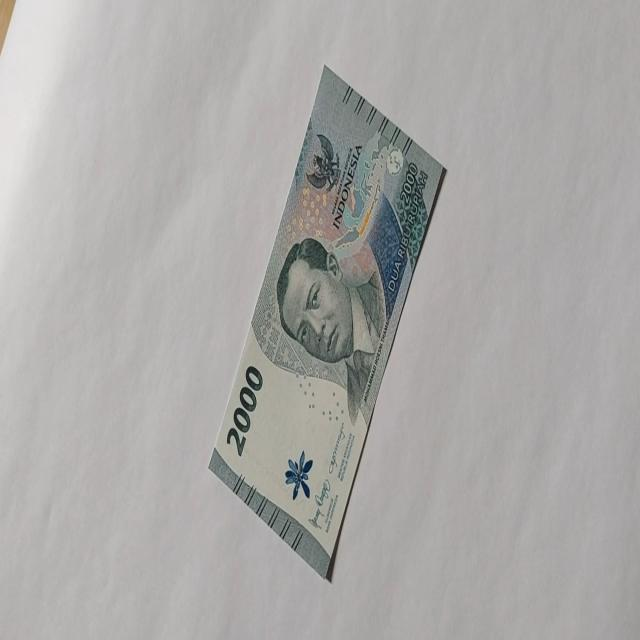dua ribu rupiah: (207, 63, 447, 581), (275, 235, 387, 425)
